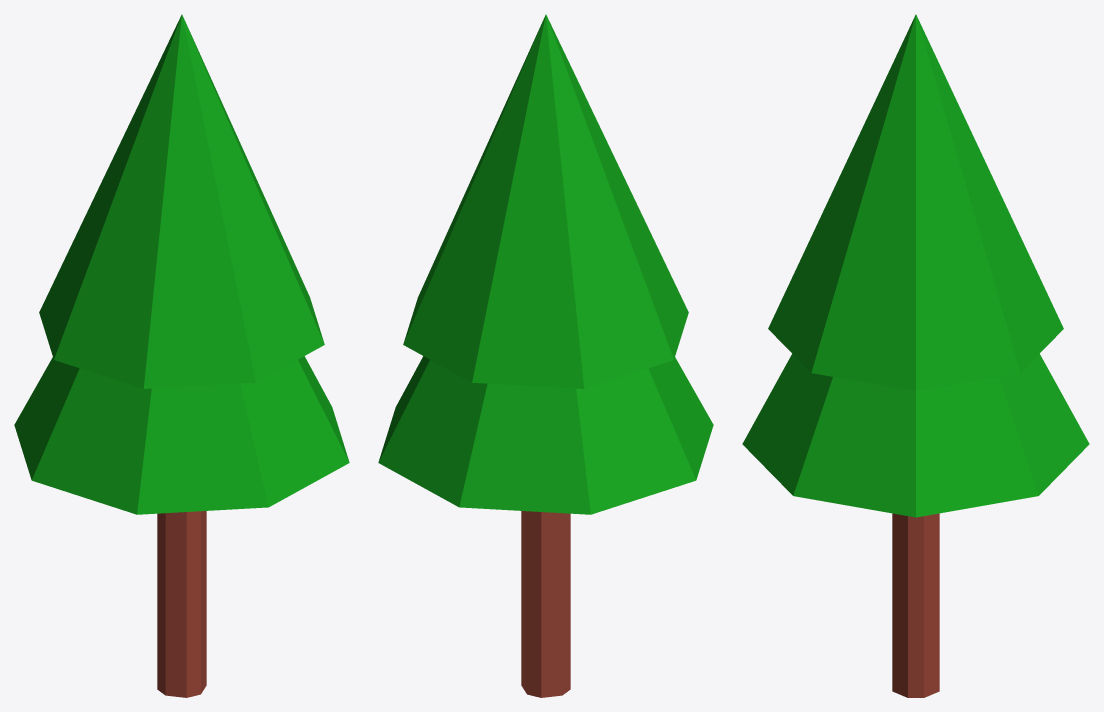
File: pine tree 1.fbx
The picture shows the model from 3 angles, left to right: view 1: azimuth 30°, elevation 25°; view 2: azimuth 150°, elevation 25°; view 3: azimuth 270°, elevation 25°; orthographic projection.
Visible parts, largest first — view 1: Cone.001, Cone, Cube.002; view 2: Cone.001, Cone, Cube.002; view 3: Cone.001, Cone, Cube.002.
Part boxes in pixels (x1,y1,x2,y2): Cone.001: [39, 14, 324, 388]; Cone: [14, 356, 349, 514]; Cube.002: [157, 511, 206, 697]; Cone.001: [403, 14, 688, 388]; Cone: [378, 356, 713, 514]; Cube.002: [521, 511, 570, 697]; Cone.001: [768, 14, 1063, 391]; Cone: [742, 354, 1089, 517]; Cube.002: [892, 513, 939, 697].
Bounding box in the file's own units: 235 × 503 × 235.
